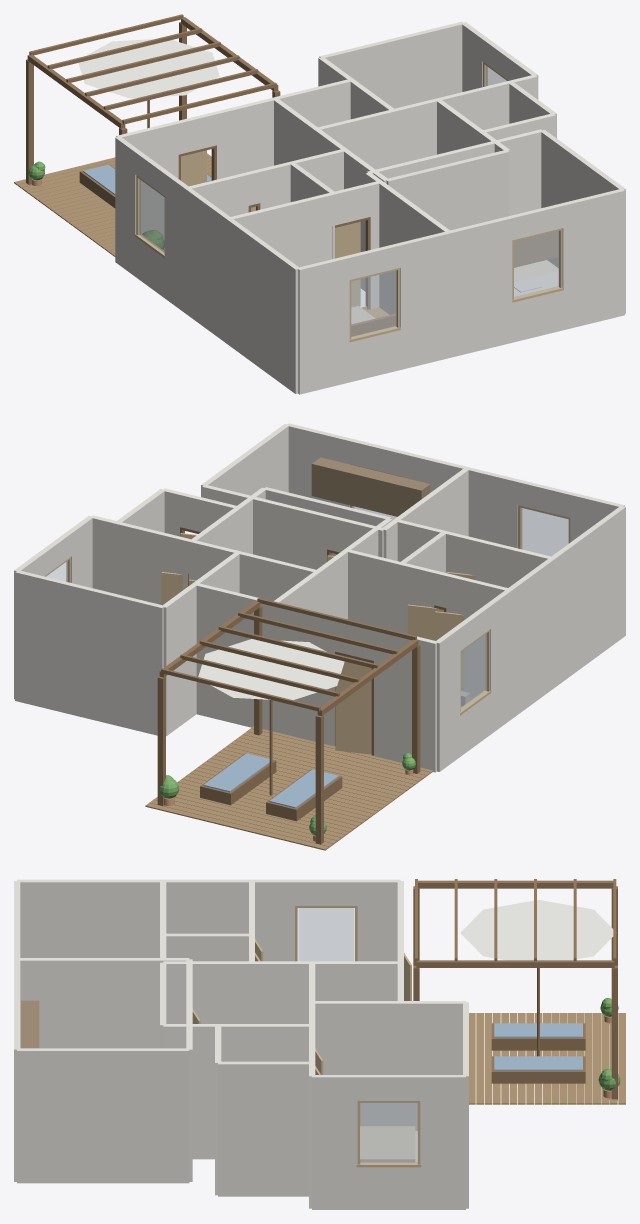
The model's file is house-3d.glb.
The picture shows the model from 3 angles, top to bottom: view 1: azimuth 30°, elevation 25°; view 2: azimuth 150°, elevation 25°; view 3: azimuth 270°, elevation 25°; orthographic projection. The views are drawn at different scales.
Visible parts, largest first — view 1: Wall_kitchen_front, Wall_bedroom_1_front, Wall_bedroom_1_left, Wall_living_room_back, Wall_living_room_left, Wall_bedroom_2_back, Wall_stairs_front, Wall_bedroom_1_back, Wall_bathroom_1_left, UmbrellaCanopy, Wall_kitchen_back, Wall_stairs_back (+36 smaller); view 2: Wall_bedroom_2_back, Wall_living_room_back, Wall_bedroom_1_left, Wall_living_room_left, Wall_living_room_front, Wall_bedroom_1_front, Wall_kitchen_back, Wall_bathroom_1_left, Wall_kitchen_front, UmbrellaCanopy, Wall_hallway_back, Wall_bedroom_2_left (+53 smaller); view 3: Wall_kitchen_right, Wall_bedroom_2_right, Wall_bathroom_2_right, Wall_kitchen_left, Wall_bedroom_1_left, Wall_bedroom_2_left, Wall_living_room_left, Wall_hallway_right, Wall_stairs_right, Wall_living_room_right, UmbrellaCanopy, Wall_stairs_left (+31 smaller).
Part boxes in pixels (box(x1,y1,x2,y2)): Wall_kitchen_front: box(449, 189, 624, 357); Wall_bedroom_1_front: box(297, 231, 450, 394); Wall_bedroom_1_left: box(227, 218, 298, 393); Wall_living_room_back: box(116, 97, 275, 250); Wall_living_room_left: box(115, 136, 188, 312); Wall_bedroom_2_back: box(319, 21, 464, 108); Wall_stairs_front: box(386, 150, 509, 230); Wall_bedroom_1_back: box(228, 181, 381, 308); Wall_bathroom_1_left: box(185, 188, 229, 343); UmbrellaCanopy: box(78, 39, 219, 98); Wall_kitchen_back: box(366, 129, 543, 215); Wall_stairs_back: box(320, 98, 437, 169); Wall_bedroom_2_back: box(15, 571, 164, 735); Wall_living_room_back: box(273, 606, 437, 772); Wall_bedroom_1_left: box(550, 506, 625, 687); Wall_living_room_left: box(435, 590, 511, 771); Wall_living_room_front: box(347, 549, 509, 700); Wall_bedroom_1_front: box(466, 467, 624, 548); Wall_kitchen_back: box(202, 485, 384, 569); Wall_bathroom_1_left: box(508, 558, 554, 718); Wall_kitchen_front: box(286, 423, 468, 507); UmbrellaCanopy: box(198, 639, 344, 699); Wall_hallway_back: box(195, 583, 272, 730); Wall_bedroom_2_left: box(163, 552, 239, 736); Wall_kitchen_right: box(17, 1048, 189, 1183); Wall_bedroom_2_right: box(312, 1075, 465, 1209); Wall_bathroom_2_right: box(218, 1061, 311, 1196); Wall_kitchen_left: box(17, 958, 189, 1048); Wall_bedroom_1_left: box(17, 879, 163, 957); Wall_bedroom_2_left: box(315, 1001, 465, 1130); Wall_living_room_left: box(252, 879, 400, 961); Wall_hallway_right: box(312, 1001, 400, 1126); Wall_stairs_right: box(163, 1024, 311, 1159); Wall_living_room_right: box(252, 961, 400, 1023); UmbrellaCanopy: box(460, 900, 613, 960); Wall_stairs_left: box(163, 961, 311, 1023).
Size of the model in its own units: 8.97 by 2.98 by 11.72.
